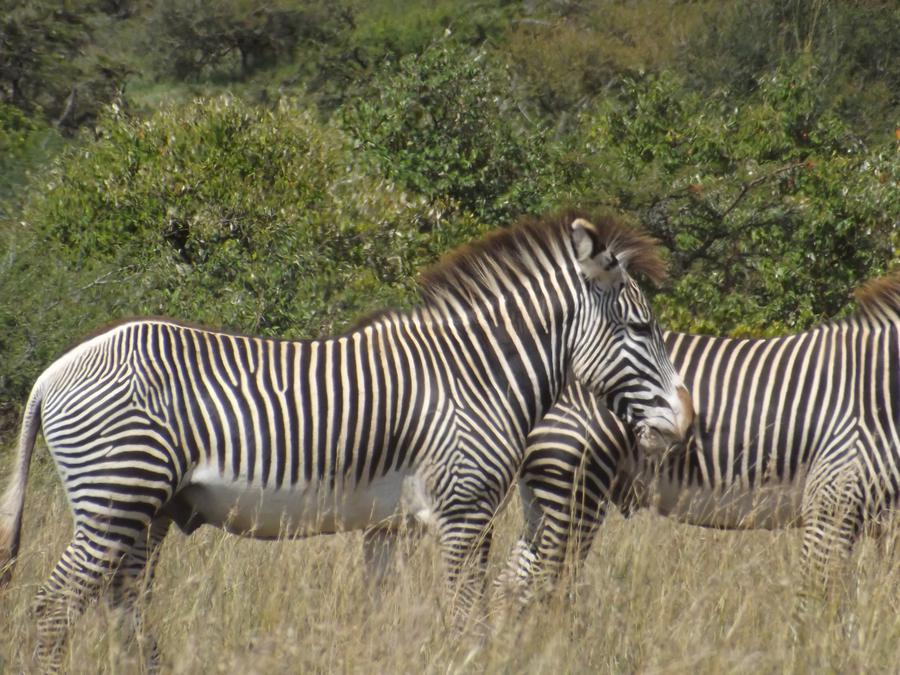zebra_grevys: (24, 305, 500, 517)
